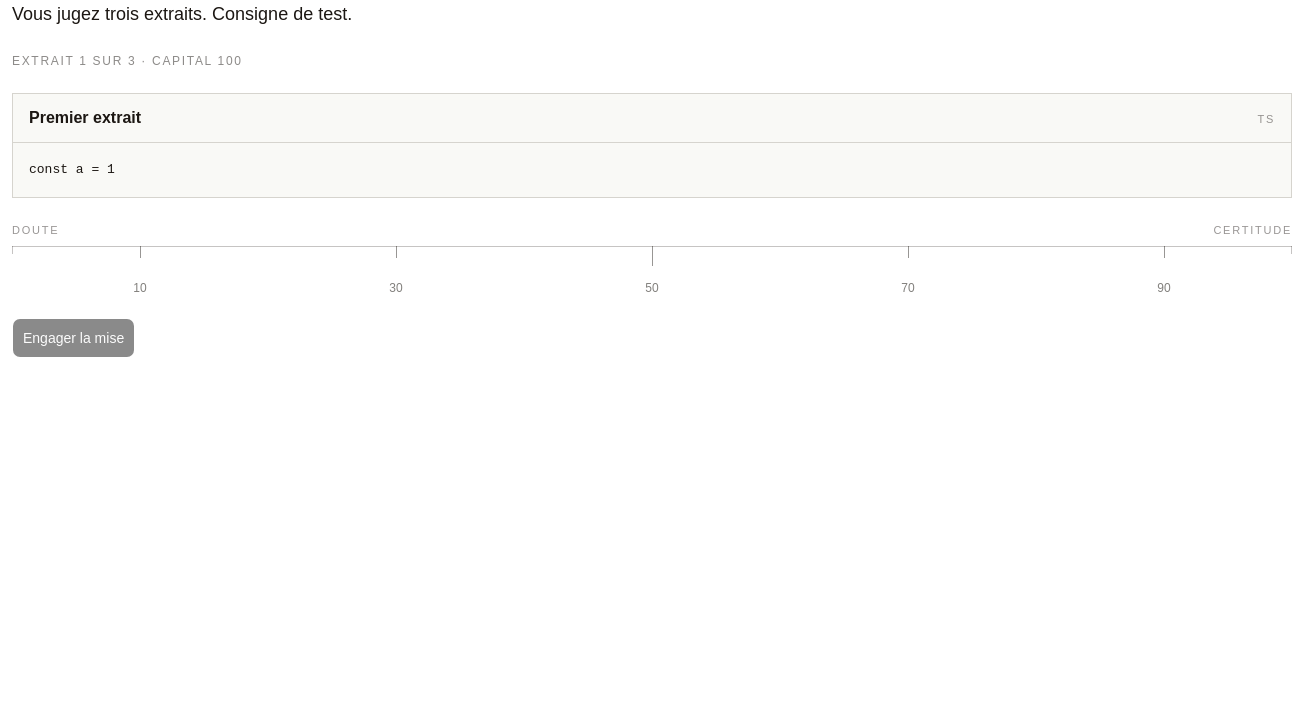
confidence bet game, rendered › removes the stake scale once the bet is engaged, and reveals the nature
Click the radio button named "mise 90". click: click(1164, 288)
box: [1157,281,1171,295]
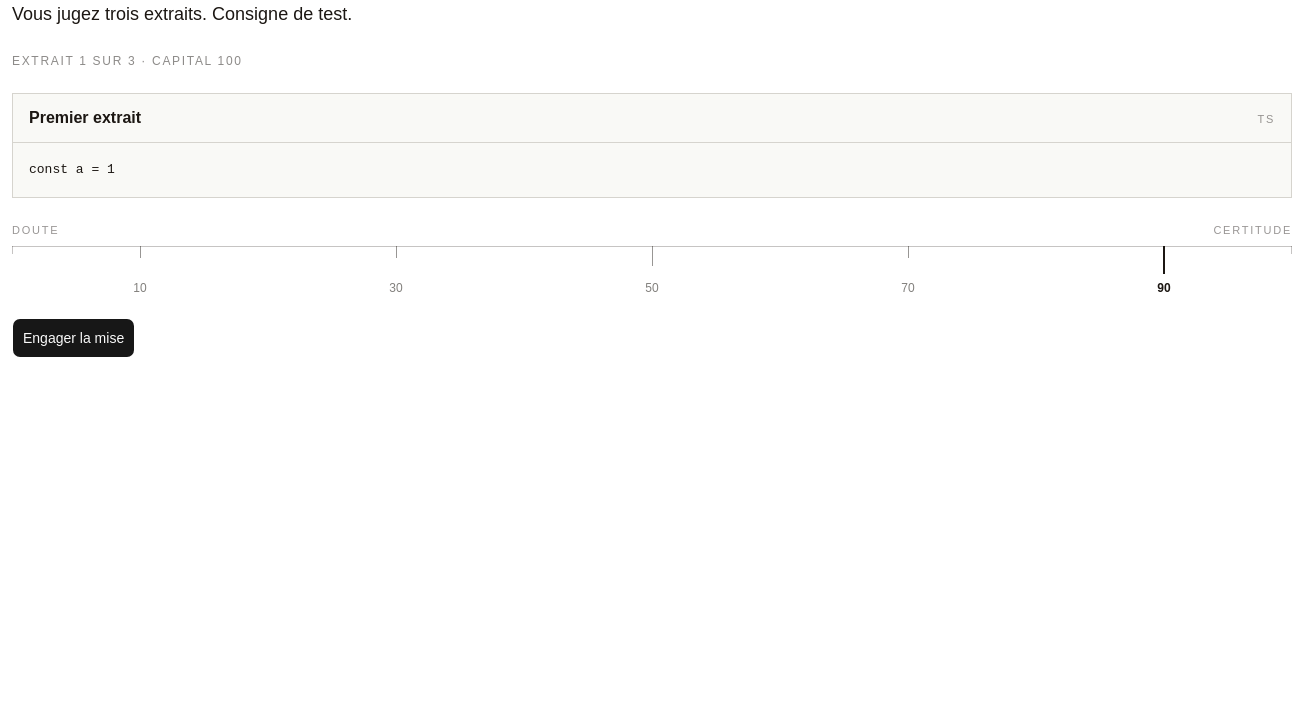
Click the button "Engager la mise". click: click(74, 338)
box: [12,318,135,358]
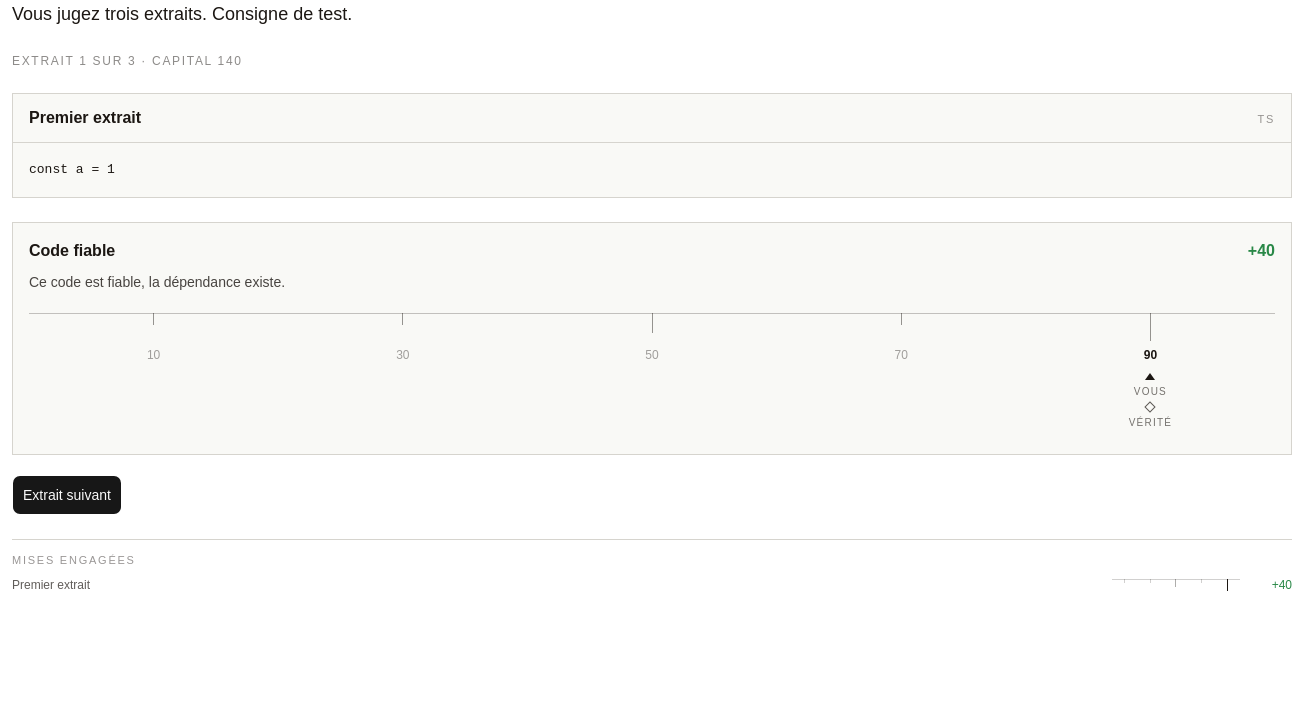
Expected: the text "Code fiable" is shown, [29,239,115,263]
Expected: the text "Ce code est fiable, la dépendance existe." is shown, [29,274,285,290]
